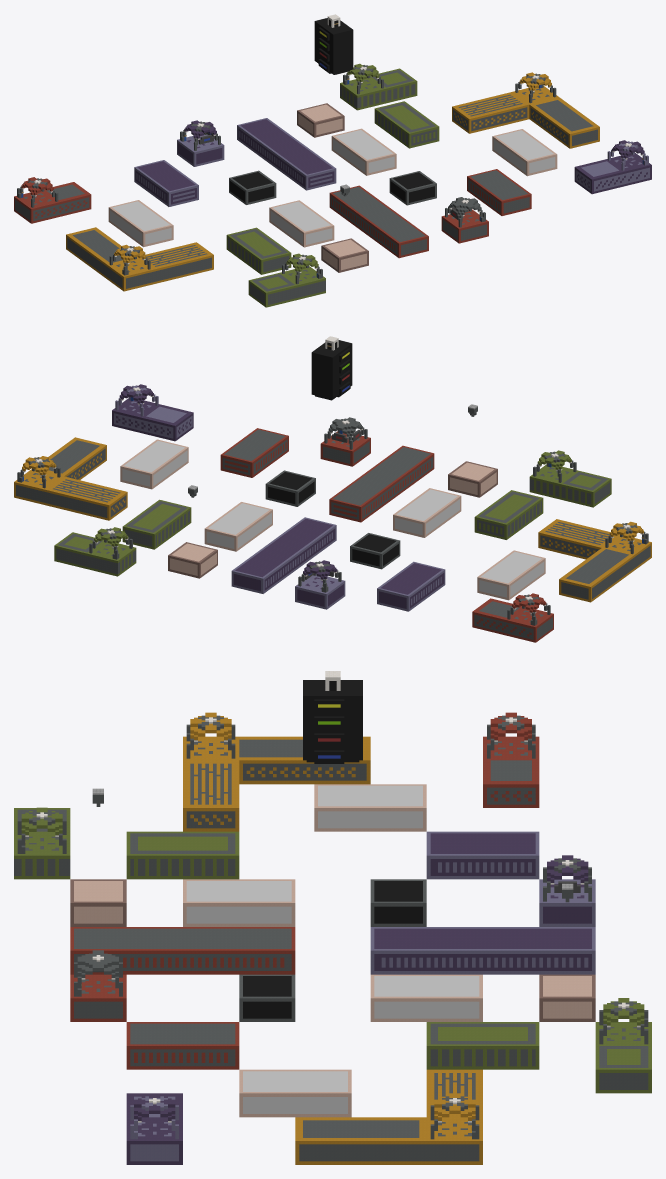
File: minecraft.obj
3 views of the same model, one above another, from view 1: azimuth 30°, elevation 25°; view 2: azimuth 150°, elevation 25°; view 3: azimuth 270°, elevation 25° (orthographic). The views are drawn at different scales.
Size of the model in its own units: 2550 by 850 by 1700.
